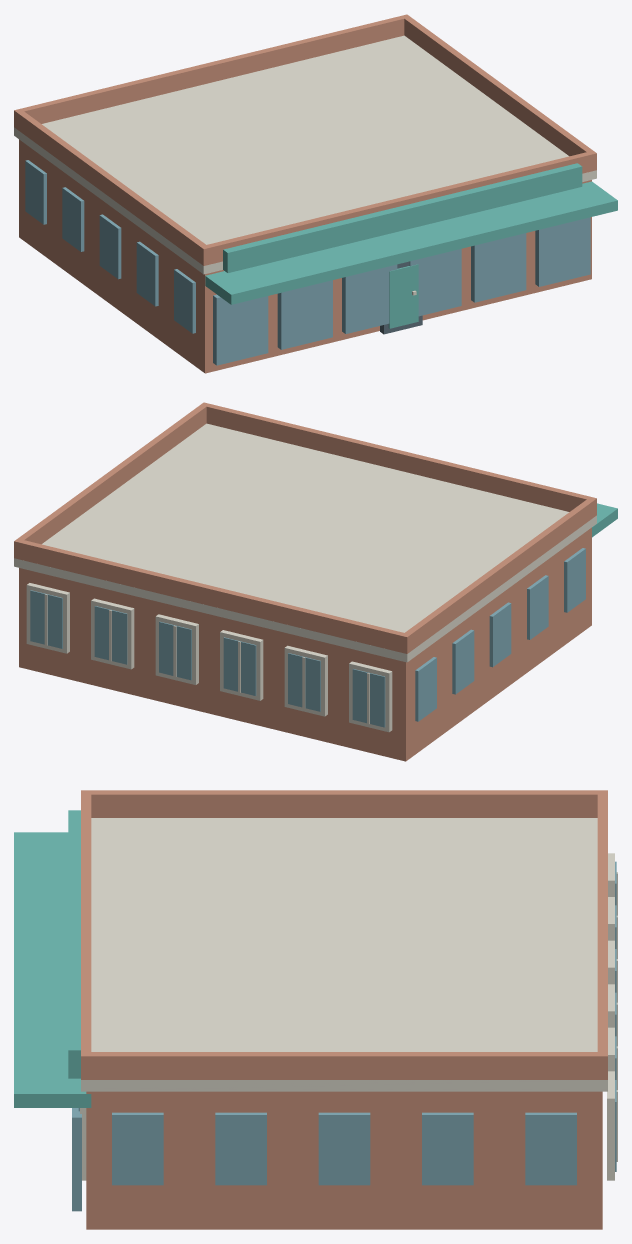
Rendered from voxel-city-districts-supermarket-cefefb2f__24780.glb.
3 renders of one model, top to bottom at view 1: azimuth 30°, elevation 25°; view 2: azimuth 150°, elevation 25°; view 3: azimuth 270°, elevation 25°, orthographic. The views are drawn at different scales.
Visible parts, largest first — view 1: supermarket-concrete, supermarket-brick, supermarket-glass, supermarket-accent; view 2: supermarket-concrete, supermarket-brick, supermarket-glass, supermarket-accent; view 3: supermarket-concrete, supermarket-brick, supermarket-glass, supermarket-accent.
Boxes of the visible parts, x1=… form: supermarket-concrete: x1=14, y1=35, x2=596, y2=295; supermarket-brick: x1=14, y1=14, x2=596, y2=373; supermarket-glass: x1=25, y1=160, x2=590, y2=365; supermarket-accent: x1=205, y1=163, x2=617, y2=328; supermarket-concrete: x1=14, y1=423, x2=596, y2=732; supermarket-brick: x1=14, y1=402, x2=596, y2=761; supermarket-glass: x1=30, y1=548, x2=585, y2=727; supermarket-accent: x1=592, y1=503, x2=617, y2=537; supermarket-concrete: x1=80, y1=818, x2=617, y2=1180; supermarket-brick: x1=81, y1=790, x2=607, y2=1229; supermarket-glass: x1=72, y1=861, x2=616, y2=1211; supermarket-accent: x1=14, y1=810, x2=91, y2=1107.
Bounding box in the file's own units: 12.2 × 3.75 × 11.7.
